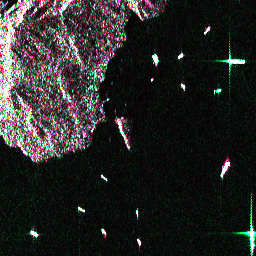ship: (218, 159, 232, 179), (149, 51, 162, 67), (27, 228, 41, 240), (248, 227, 255, 251), (201, 24, 213, 36), (226, 57, 246, 64), (175, 50, 186, 62), (75, 204, 87, 215), (98, 172, 110, 183), (98, 226, 108, 237), (135, 237, 144, 248), (178, 82, 186, 91)
